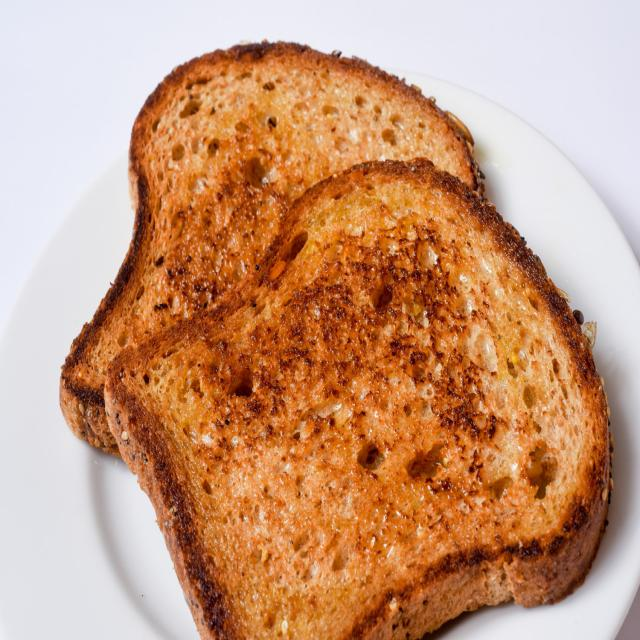Bread: (105, 159, 611, 638), (60, 43, 482, 455)
